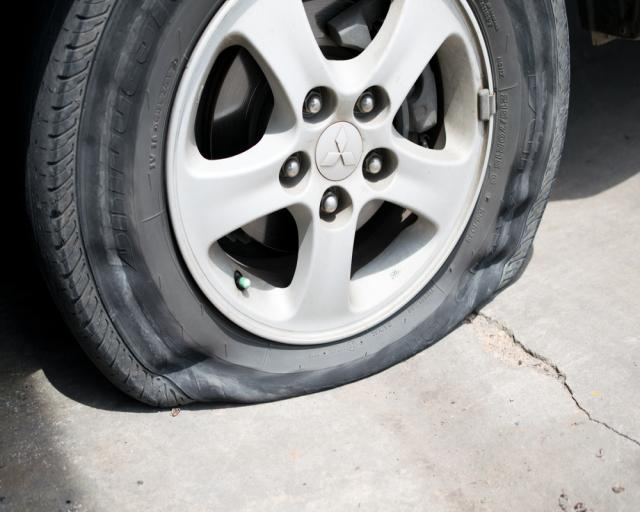tire flat: (20, 0, 573, 409)
